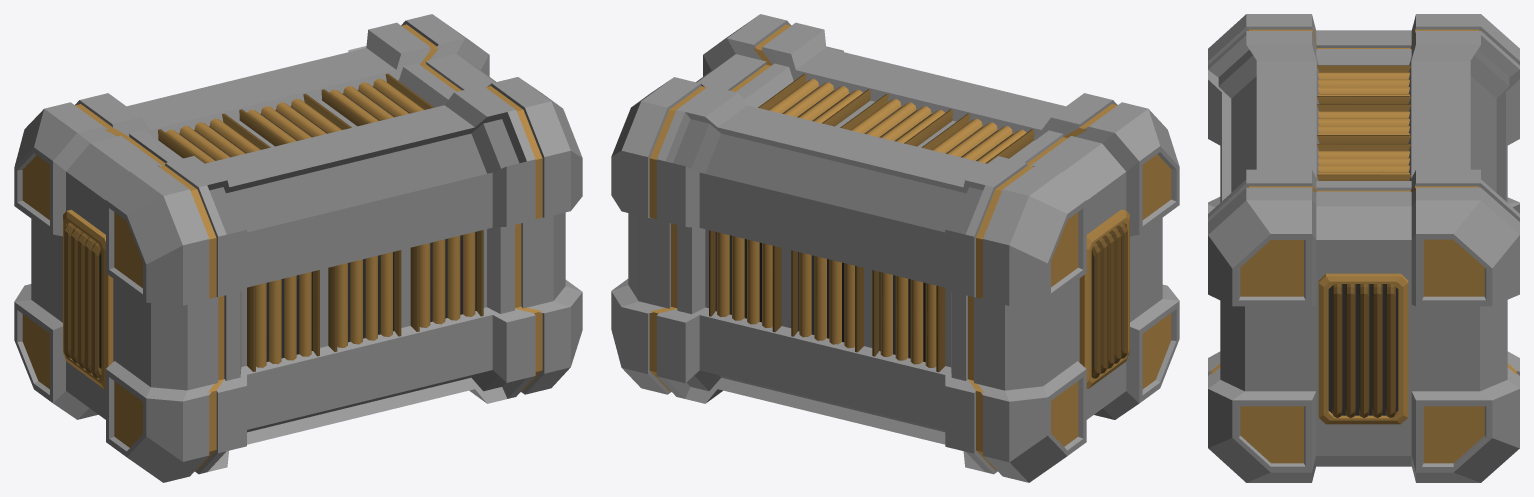
Rendered from Props_CrateLong.glb.
The picture shows the model from 3 angles, left to right: view 1: azimuth 30°, elevation 25°; view 2: azimuth 150°, elevation 25°; view 3: azimuth 270°, elevation 25°; orthographic projection.
Visible parts, largest first — view 1: Black; view 2: Black; view 3: Black.
Boxes of the visible parts, bbox=[...] form: Black: bbox=[14, 14, 582, 482]; Black: bbox=[611, 14, 1179, 482]; Black: bbox=[1208, 14, 1519, 482].
Size of the model in its own units: 1.23 by 0.7698 by 0.7698.
1 material, 1 textured.
